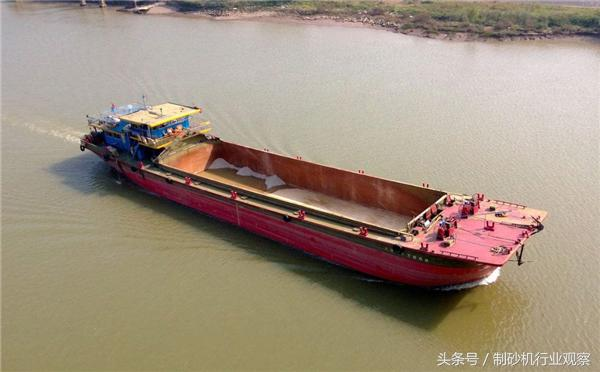boat: (78, 88, 552, 293)
